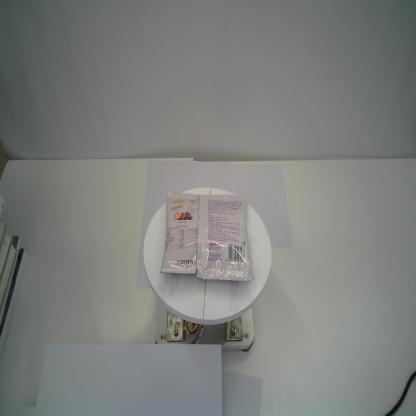Instant Drink: (160, 191, 254, 282)
